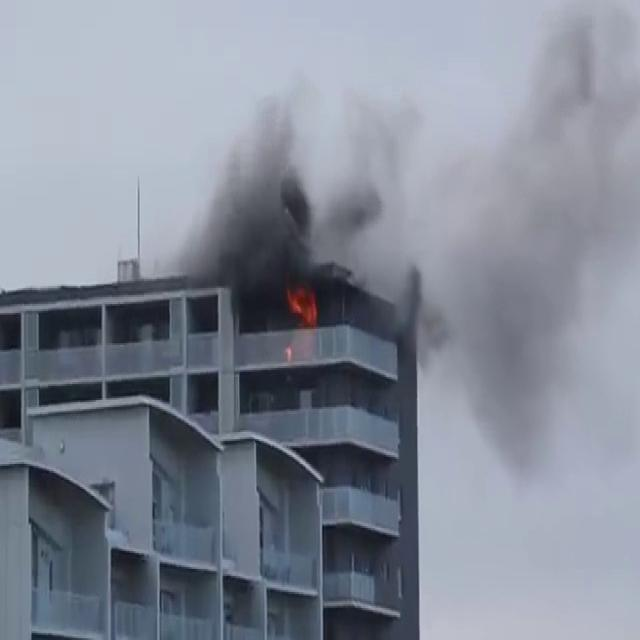Fire: (282, 278, 322, 332)
Smoke: (176, 4, 640, 342)
